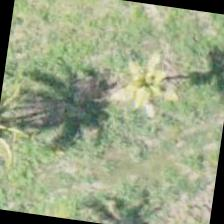Kelapa_Sawit: (84, 36, 186, 138)
